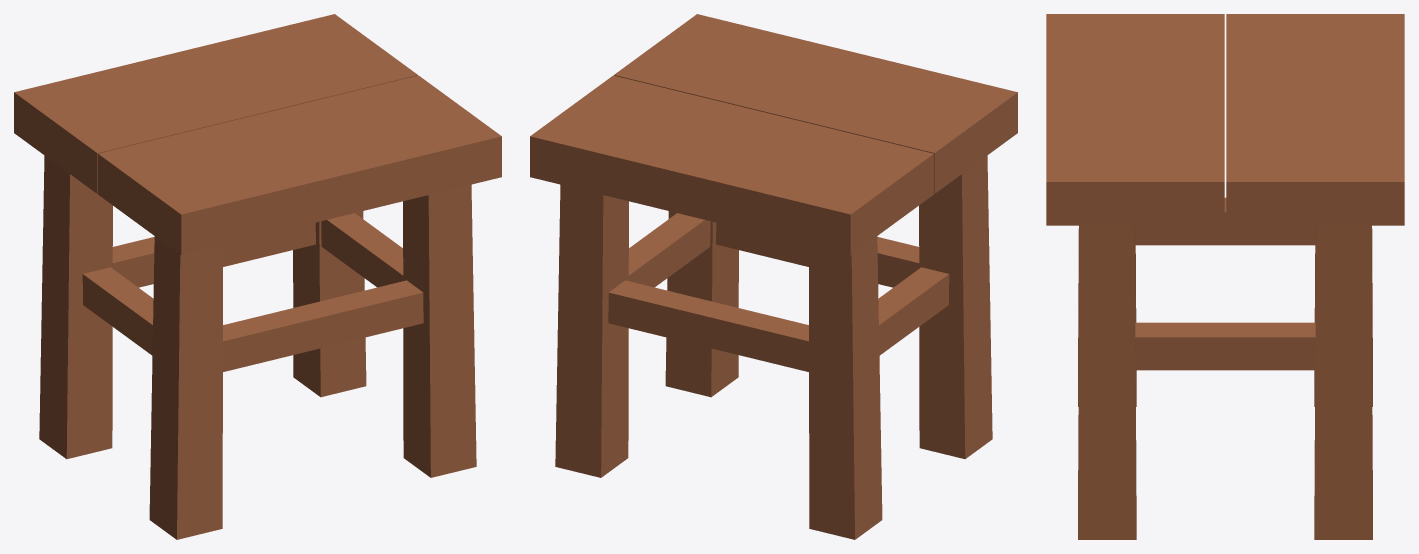
The model's file is table_long_001.glb.
The picture shows the model from 3 angles, left to right: view 1: azimuth 30°, elevation 25°; view 2: azimuth 150°, elevation 25°; view 3: azimuth 270°, elevation 25°; orthographic projection. The views are drawn at different scales.
Visible parts, largest first — view 1: table_long.001; view 2: table_long.001; view 3: table_long.001.
Part boxes in pixels (x1=…): table_long.001: x1=14, y1=14, x2=501, y2=539; table_long.001: x1=530, y1=14, x2=1017, y2=539; table_long.001: x1=1046, y1=14, x2=1404, y2=539.
Bounding box in the file's own units: 0.2951 × 0.2979 × 0.2663.
1 material, 1 textured.
